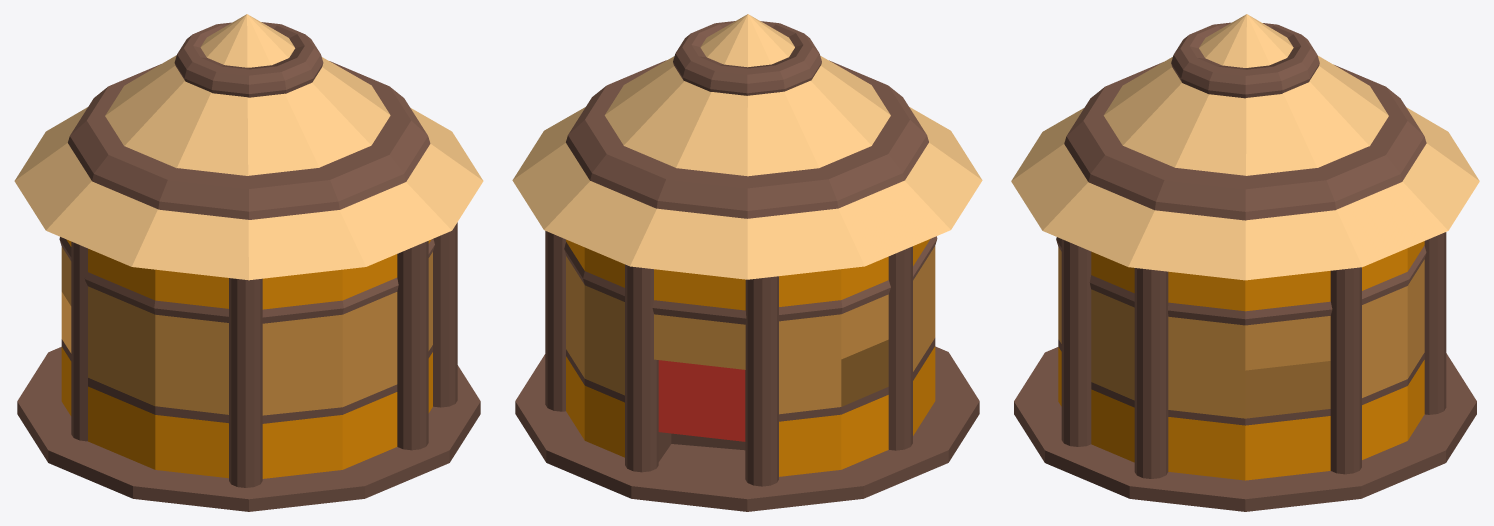
File: Musala.glb
The picture shows the model from 3 angles, left to right: view 1: azimuth 30°, elevation 25°; view 2: azimuth 150°, elevation 25°; view 3: azimuth 270°, elevation 25°; orthographic projection.
Parts seen in each view (by area): view 1: Node; view 2: Node; view 3: Node.
Boxes of the visible parts, bbox=[...] form: Node: bbox=[14, 14, 483, 511]; Node: bbox=[512, 14, 982, 511]; Node: bbox=[1011, 14, 1479, 511].
Size of the model in its own units: 1.67 by 1.57 by 1.67.
